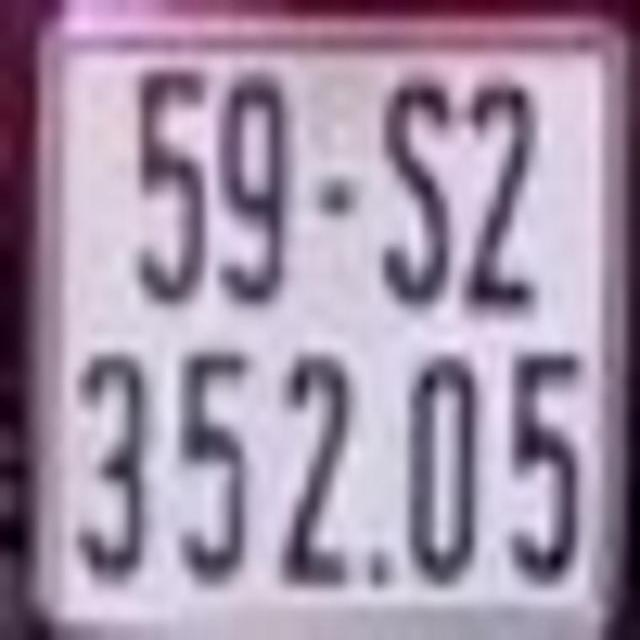0: (400, 345, 478, 585)
2: (467, 81, 545, 304), (277, 362, 355, 584)
3: (72, 355, 162, 584)
5: (132, 66, 207, 301), (174, 346, 246, 581), (510, 346, 581, 584)
S: (374, 80, 455, 305)
